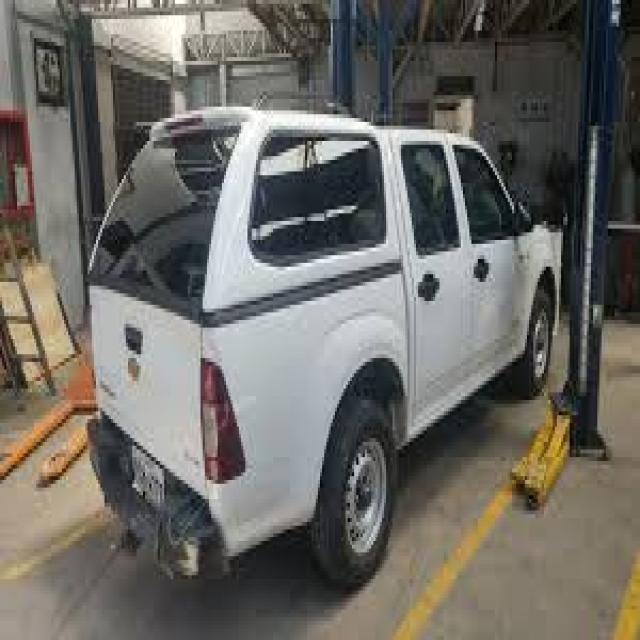CMT: (91, 94, 565, 596)
